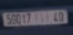0: (16, 13, 22, 25), (59, 12, 64, 23)
1: (22, 13, 26, 24)
4: (54, 12, 58, 23)
5: (6, 13, 11, 24)
7: (26, 14, 33, 24)
9: (12, 13, 17, 24)
a: (40, 11, 44, 24)
